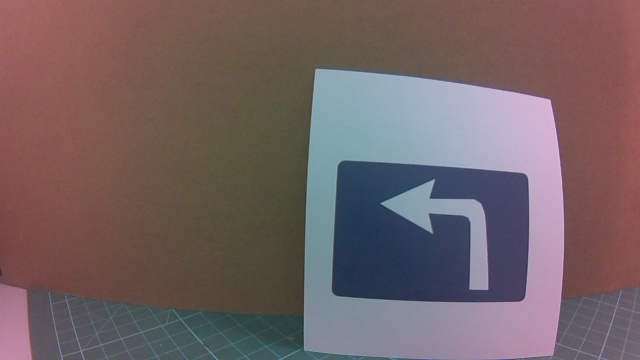left: (344, 148, 529, 316)
